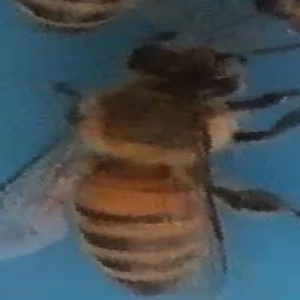bee: (7, 34, 295, 299), (8, 1, 152, 40)
